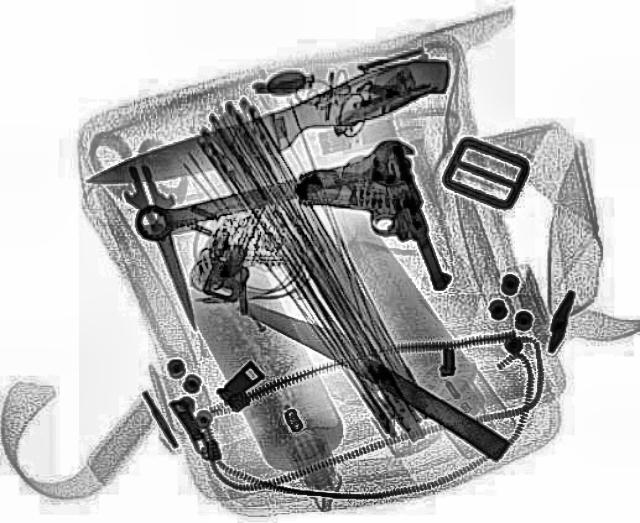Gun: (283, 134, 453, 304)
Knife: (76, 48, 462, 204), (230, 284, 524, 461), (112, 160, 218, 335)
Wrench: (123, 132, 425, 248)
